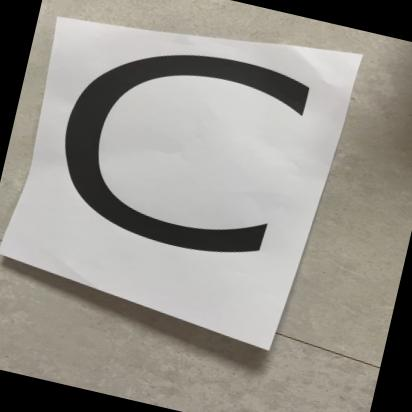seat: (13, 0, 366, 348)
